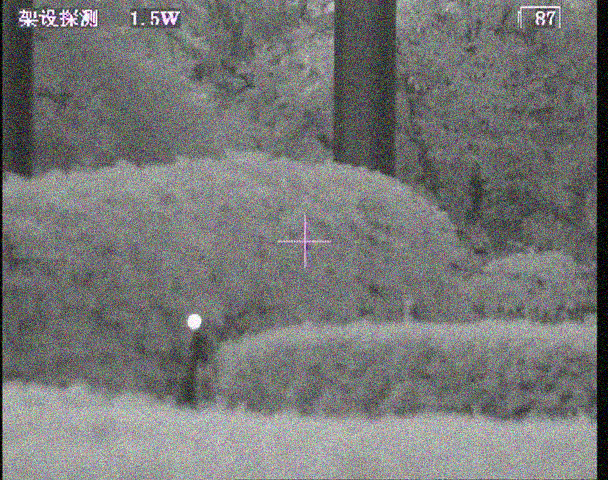my: (186, 313, 202, 331)
